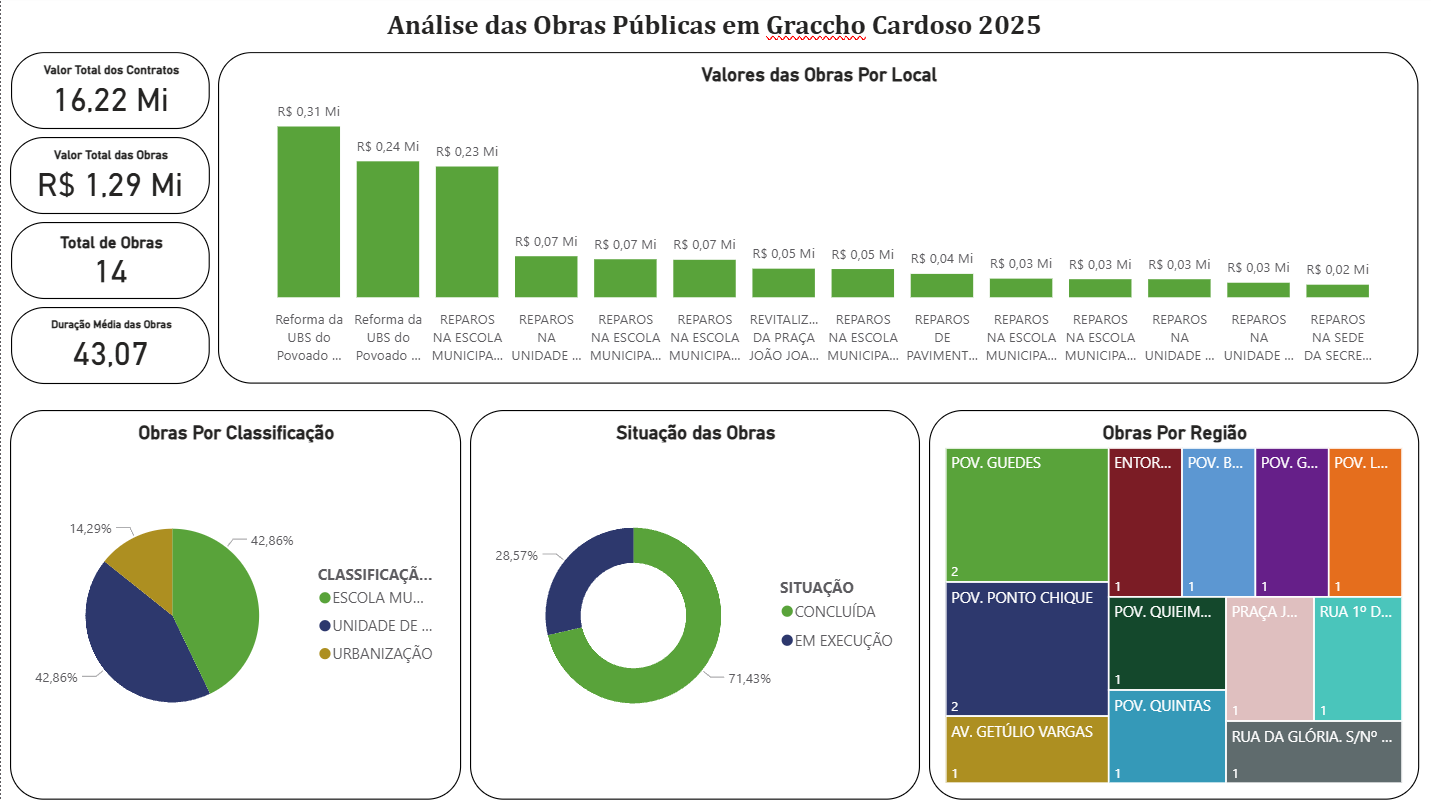

What the dashboard file says about the page in this screenshot:
{"tool":"powerbi","page":{"name":"Página 1","canvas":[1280,720],"ordinal":0},"visuals":[{"type":"card","title":"Valor Total dos Contratos","fields":{"Values":["Sum(OBRAS.VALOR DO CONTRATO (R$))"]},"box":[8.8,50.6,178,69.1],"z":0},{"type":"card","title":"Valor Total das Obras","fields":{"Values":["Sum(OBRAS.VALOR TOTAL DA OBRA (R$))"]},"box":[7.8,126.4,179,69.1],"z":1},{"type":"card","title":"Duração Média das Obras","fields":{"Values":["Avg(OBRAS.DURACAO_DIAS)"]},"box":[8.8,278.2,178,69.1],"z":2},{"type":"pieChart","title":"Obras Por Classificação","fields":{"Y":["CountNonNull(OBRAS.CONTRATO)"],"Category":["OBRAS.CLASSIFICAÇÃO DA OBRA"]},"box":[7.8,370.6,403.6,349.2],"z":3},{"type":"donutChart","title":"Situação das Obras","fields":{"Y":["CountNonNull(OBRAS.CONTRATO)"],"Category":["OBRAS.SITUAÇÃO"]},"box":[420.2,370.6,402.7,349.2],"z":4},{"type":"card","title":"Total de Obras","fields":{"Values":["CountNonNull(OBRAS.CONTRATO)"]},"box":[8.8,202.3,178,69.1],"z":5},{"type":"treemap","title":"Obras Por Região","fields":{"Group":["OBRAS.LOCALIZAÇÃO"],"Values":["CountNonNull(OBRAS.CONTRATO)"]},"box":[830.6,370.6,438.7,349.2],"z":6},{"type":"clusteredColumnChart","title":"Valores das Obras Por Local","fields":{"Category":["OBRAS.NOME DA OBRA"],"Y":["Sum(OBRAS.VALOR TOTAL DA OBRA (R$))"]},"box":[194.5,50.6,1074.8,296.7],"z":7},{"type":"textbox","box":[9,6.3,1260,43.9],"z":8}]}

Visuals, with their boxes in screenshot pixels (x1, y1, x2, y2), scaled from the page's 1280x720 canvas onto the 1431x800 screenshot:
"Valor Total dos Contratos" card: (10,56,209,133)
"Valor Total das Obras" card: (9,140,209,217)
"Duração Média das Obras" card: (10,309,209,386)
"Obras Por Classificação" pieChart: (9,412,460,799)
"Situação das Obras" donutChart: (470,412,920,799)
"Total de Obras" card: (10,225,209,302)
"Obras Por Região" treemap: (929,412,1419,799)
"Valores das Obras Por Local" clusteredColumnChart: (217,56,1419,386)
textbox: (10,7,1419,56)
